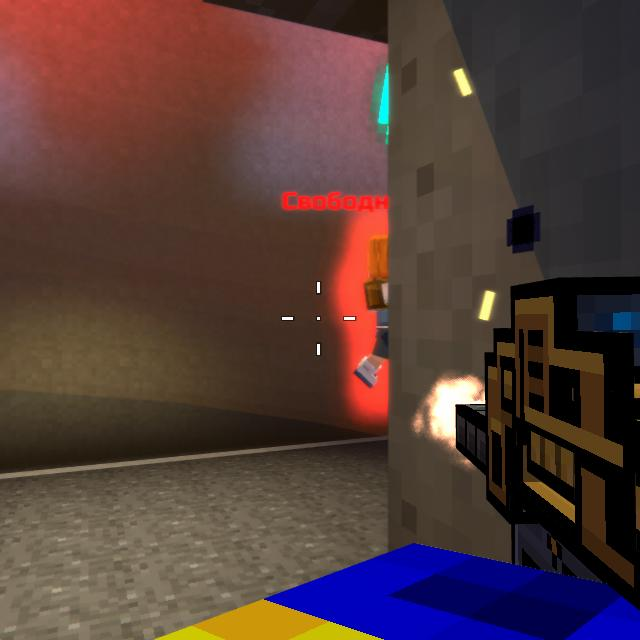Enemy: (357, 238, 388, 395)
